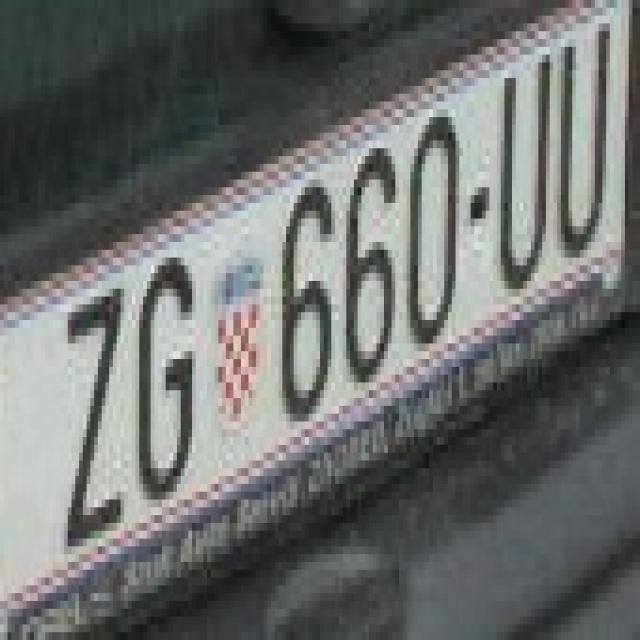0: (407, 109, 459, 359)
6: (343, 141, 399, 398), (279, 172, 335, 429)
G: (136, 250, 200, 523)
U: (554, 23, 618, 274), (497, 55, 546, 296)
Z: (52, 289, 120, 554)
